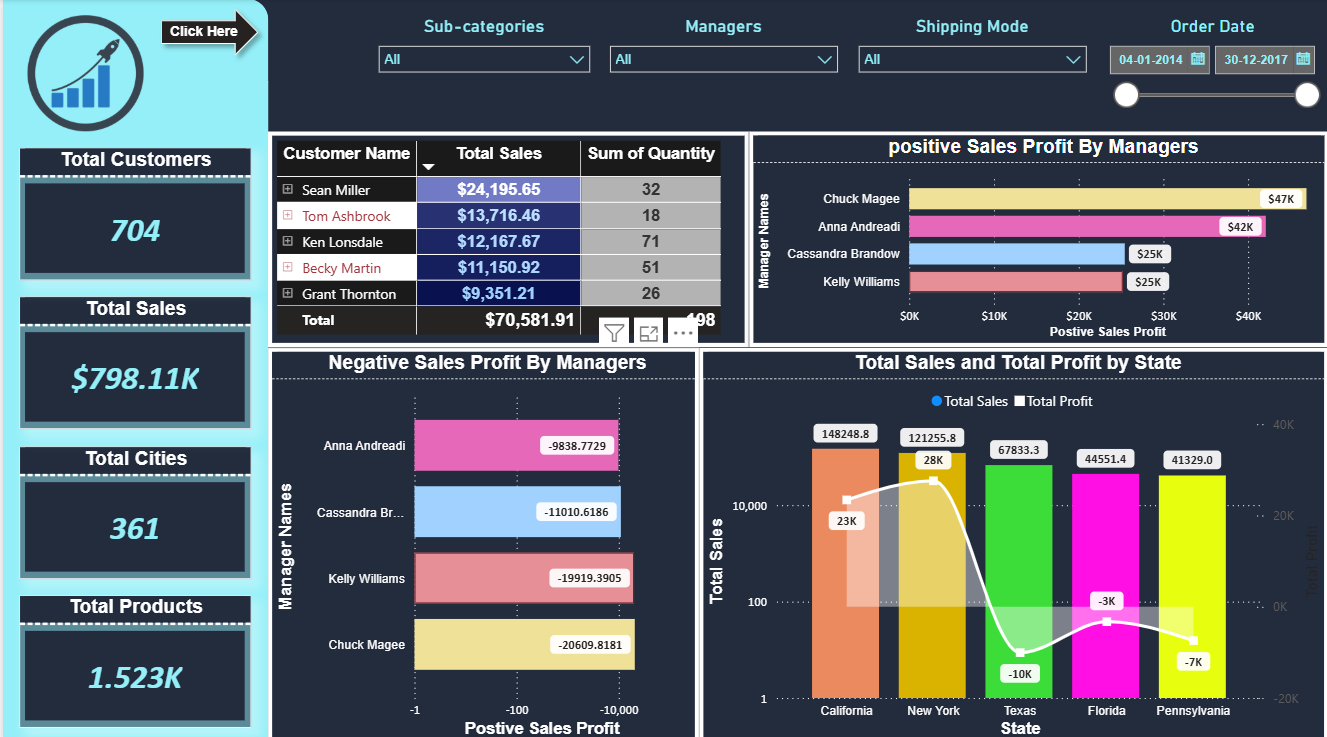

The page's visual inventory and layout, read from the dashboard file:
{"tool":"powerbi","page":{"name":"Report-2","canvas":[1280,720],"ordinal":1},"visuals":[{"type":"group","id":"g1","title":"Group 2","box":[0,80,256,640],"z":0},{"type":"shape","box":[0,80,256,640],"z":0,"group":"g1"},{"type":"shape","box":[0,0,256,80],"z":1000},{"type":"cardVisual","title":"Total Cities","fields":{"Data":["Project 2 Data.Total Cities"]},"box":[16,432,224,128],"z":1000,"group":"g2"},{"type":"pivotTable","fields":{"Rows":["Project 2 Data.Customer Name","Project 2 Data.Product Name","Project 2 Data.Category","Project 2 Data.City"],"Values":["Project 2 Data.Total Sales","Sum(Project 2 Data.Quantity)"]},"box":[256,128,464,208],"z":2000},{"type":"cardVisual","title":"Total Sales","fields":{"Data":["Project 2 Data.Total Sales"]},"box":[16,288,224,128],"z":2000,"group":"g2"},{"type":"barChart","title":"positive Sales Profit By Managers","fields":{"Category":["People.Person"],"Y":["Project 2 Data.postive profit"]},"box":[720,128,560,208],"z":3000},{"type":"cardVisual","title":"Total Customers","fields":{"Data":["Project 2 Data.Total Customer"]},"box":[16,144,224,128],"z":3000,"group":"g2"},{"type":"barChart","title":"Negative Sales Profit By Managers","fields":{"Category":["People.Person"],"Y":["Project 2 Data.Negative profit"]},"box":[256,336,416,384],"z":4000},{"type":"cardVisual","title":"Total Products","fields":{"Data":["Project 2 Data.Total Product"]},"box":[16,576,224,128],"z":4000,"group":"g2"},{"type":"group","id":"g2","title":"Group 1","box":[16,144,224,560],"z":4001,"group":"g1"},{"type":"lineStackedColumnComboChart","fields":{"Category":["Project 2 Data.State"],"Y":["Project 2 Data.Total Sales"],"Y2":["Project 2 Data.Total Profit"]},"box":[672,336,608,384],"z":5000},{"type":"slicer","title":"Order Date","fields":{"Values":["Project 2 Data.Order Date"]},"box":[1056,16,224,96],"z":6000},{"type":"slicer","title":"Shipping Mode","fields":{"Values":["Project 2 Data.Ship Mode"]},"box":[816,16,240,96],"z":7000},{"type":"slicer","title":"Managers","fields":{"Values":["People.Person"]},"box":[576,16,240,96],"z":8000},{"type":"slicer","title":"Sub-categories","fields":{"Values":["Project 2 Data.Sub-Category"]},"box":[352,16,224,96],"z":9000},{"type":"shape","box":[144,0,112,64],"z":10000},{"type":"image","box":[16,16,128,112],"z":11000}]}

Visuals, with their boxes in screenshot pixels (x1, y1, x2, y2), scaled from the page's 1280x720 canvas onto the 1327x737 screenshot:
"Group 2" group: Rect(0, 82, 265, 736)
shape: Rect(0, 82, 265, 736)
shape: Rect(0, 0, 265, 82)
"Total Cities" cardVisual: Rect(17, 442, 249, 573)
pivotTable - Project 2 Data.Customer Name x Project 2 Data.Product Name: Rect(265, 131, 746, 344)
"Total Sales" cardVisual: Rect(17, 295, 249, 426)
"positive Sales Profit By Managers" barChart: Rect(746, 131, 1326, 344)
"Total Customers" cardVisual: Rect(17, 147, 249, 278)
"Negative Sales Profit By Managers" barChart: Rect(265, 344, 697, 736)
"Total Products" cardVisual: Rect(17, 590, 249, 721)
"Group 1" group: Rect(17, 147, 249, 721)
lineStackedColumnComboChart - Project 2 Data.State x Project 2 Data.Total Sales: Rect(697, 344, 1326, 736)
"Order Date" slicer: Rect(1095, 16, 1326, 115)
"Shipping Mode" slicer: Rect(846, 16, 1095, 115)
"Managers" slicer: Rect(597, 16, 846, 115)
"Sub-categories" slicer: Rect(365, 16, 597, 115)
shape: Rect(149, 0, 265, 66)
image: Rect(17, 16, 149, 131)
